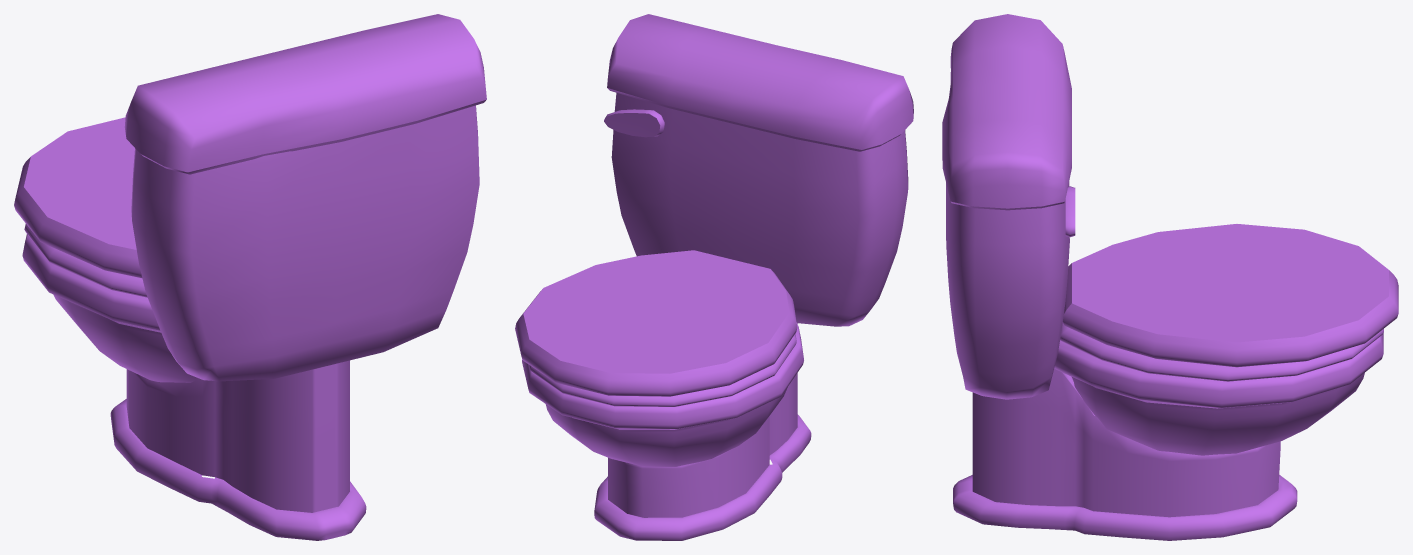
The model's file is Friday_Toilet.fbx.
3 views of the same model, side by side, from view 1: azimuth 30°, elevation 25°; view 2: azimuth 150°, elevation 25°; view 3: azimuth 270°, elevation 25° (orthographic). The views are drawn at different scales.
Parts seen in each view (by area): view 1: Toilet, Lid, Seat; view 2: Toilet, Lid, Seat, Handle; view 3: Toilet, Lid, Seat.
Part boxes in pixels (x1,y1,x2,y2): Toilet: (22,14,486,540); Lid: (14,117,142,278); Seat: (24,223,147,297); Toilet: (522,14,913,540); Lid: (515,250,797,396); Seat: (529,333,796,406); Handle: (604,109,664,137); Toilet: (942,14,1383,540); Lid: (1063,224,1398,367); Seat: (1060,322,1383,381).
Size of the model in its own units: 106 by 141 by 138.
